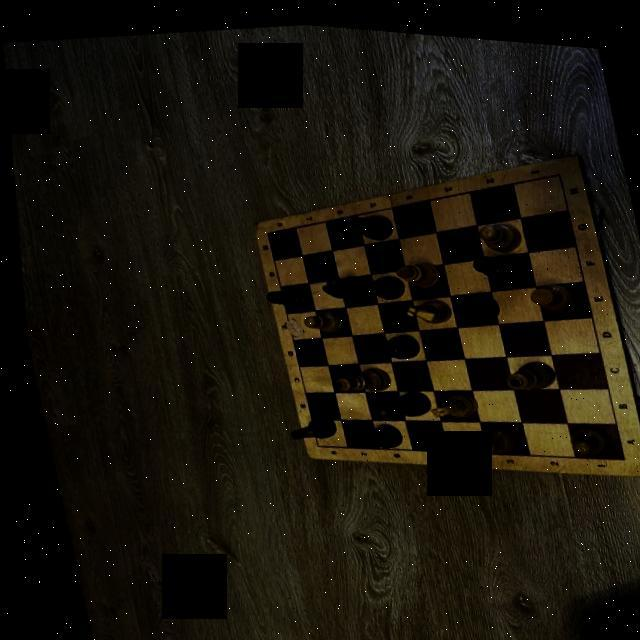chess-table-corners: (611, 444, 623, 454), (552, 159, 562, 170), (306, 436, 316, 444), (260, 225, 268, 231)
